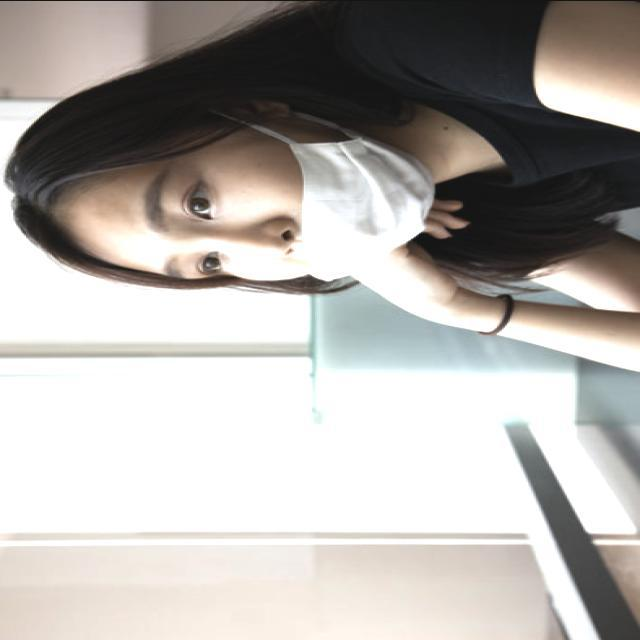face_half_mask: (71, 109, 415, 283)
